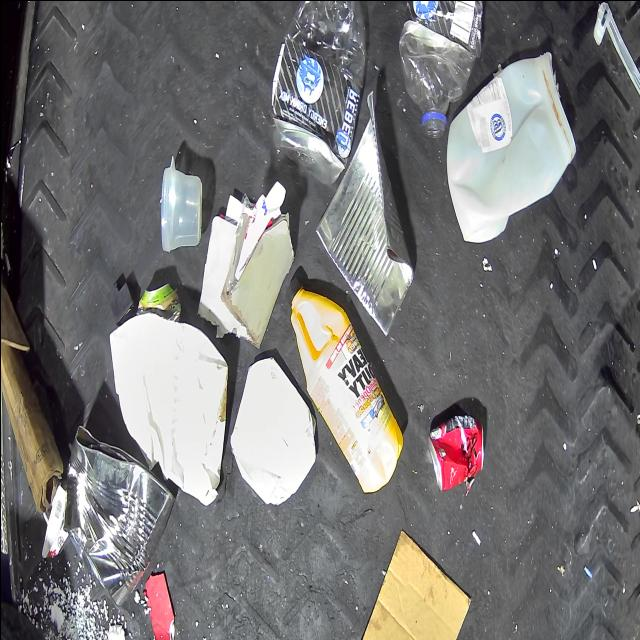can: (61, 424, 175, 608), (427, 414, 483, 492), (140, 282, 180, 316)
milk_jug: (446, 50, 576, 242)
non_white_jug: (285, 276, 399, 496)
plastic_bottle: (271, 0, 367, 186), (400, 0, 484, 138)
